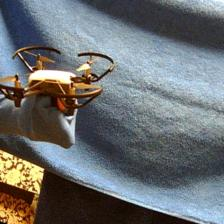drone: (0, 46, 118, 113)
